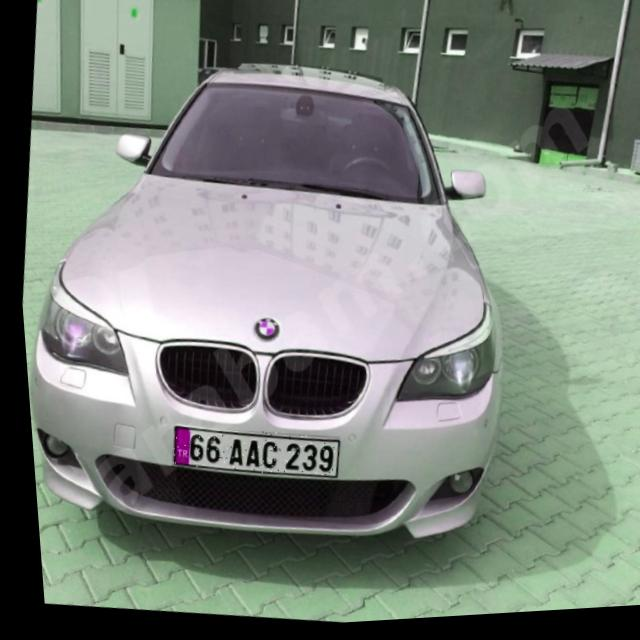license_plate: (161, 420, 334, 489)
